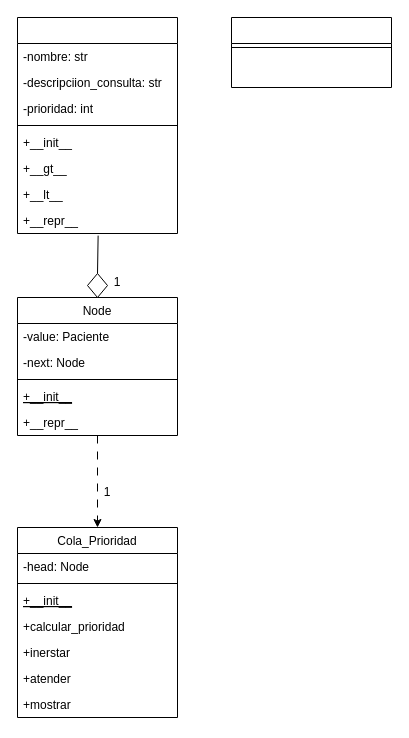
Image size: 409x738. Some labels were removed from this diagram. The box of each missing label's shape, as (x1, y1, x2, y2) in pixels:
EmptyQueueerror: (230, 16, 392, 88)
Paciente: (16, 16, 178, 234)
